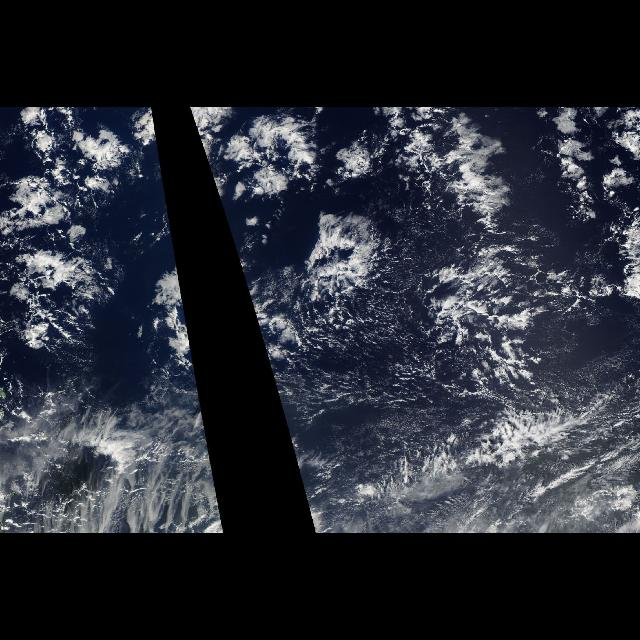Fish: (228, 114, 540, 296), (424, 304, 576, 470)
Flower: (0, 107, 192, 353), (188, 108, 208, 164)
Sugar: (294, 303, 432, 441)
